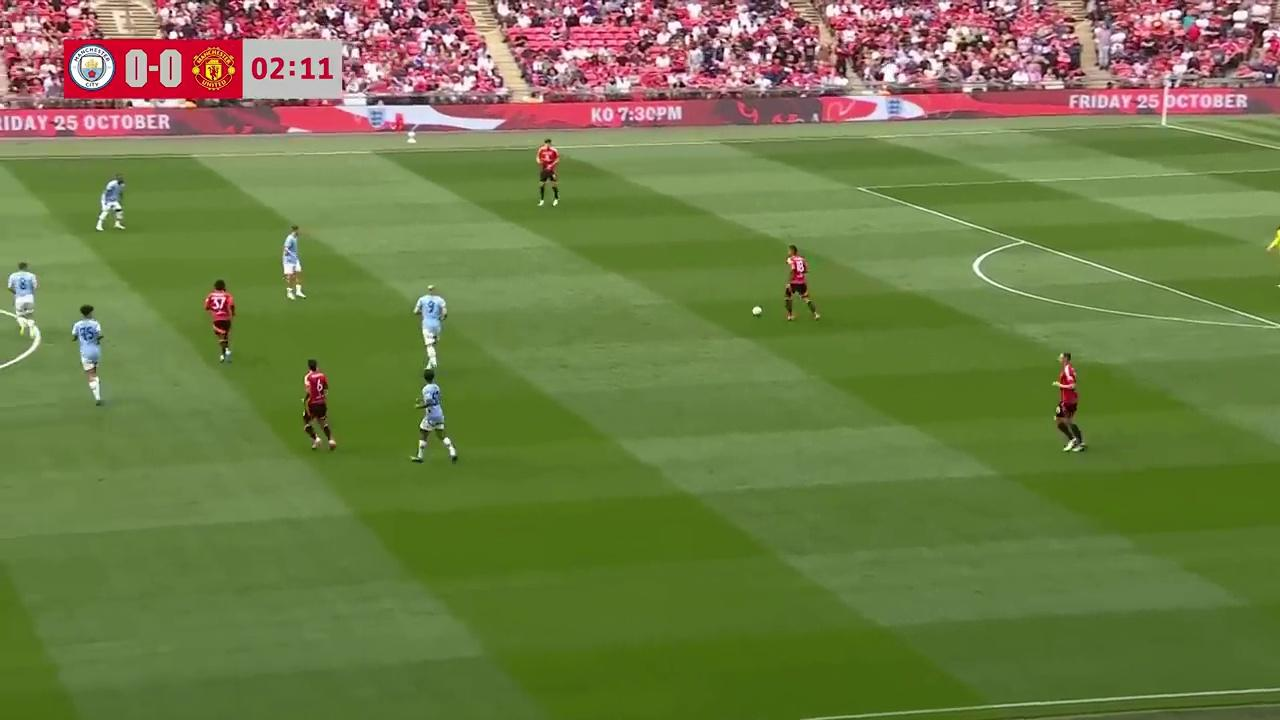ball: (750, 301, 763, 318)
player: (410, 372, 458, 465), (1051, 350, 1087, 453), (71, 304, 104, 407), (301, 359, 335, 452), (413, 284, 447, 373), (782, 245, 820, 321), (204, 279, 236, 363), (7, 260, 39, 337), (281, 225, 306, 301), (96, 173, 126, 232), (536, 140, 560, 207), (1266, 221, 1280, 269)
